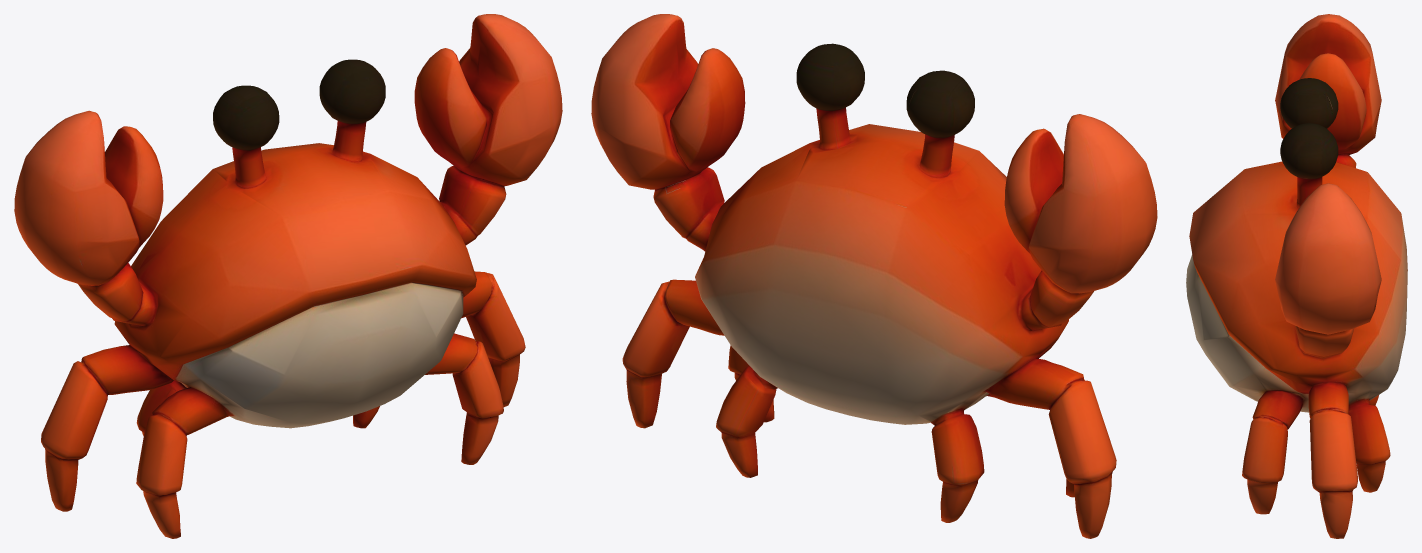
File: beach_crab.glb
The picture shows the model from 3 angles, left to right: view 1: azimuth 30°, elevation 25°; view 2: azimuth 150°, elevation 25°; view 3: azimuth 270°, elevation 25°; orthographic projection. The views are drawn at different scales.
Parts seen in each view (by area): view 1: material; view 2: material; view 3: material.
Part boxes in pixels (box(x1,y1,x2,y2)): material: box(14, 14, 562, 538); material: box(591, 14, 1157, 538); material: box(1186, 14, 1407, 538).
Bounding box in the file's own units: 1.9 × 1.4 × 0.7987.
1 material, 1 textured.
